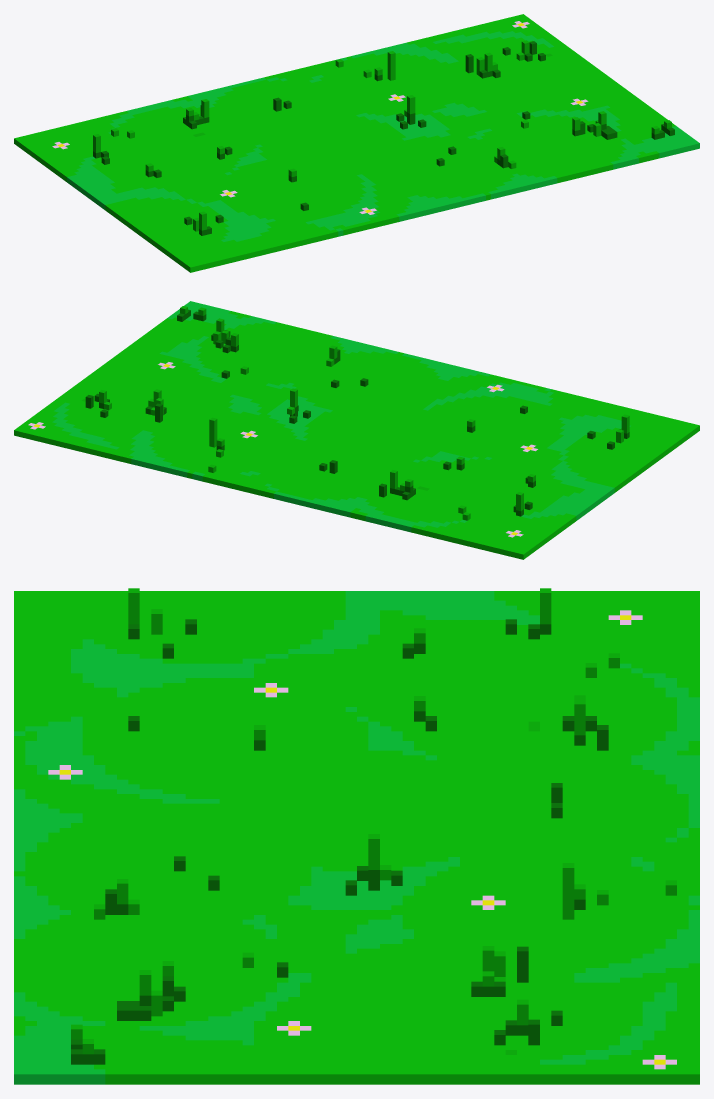
The model's file is Grass.obj.
3 renders of one model, top to bottom at view 1: azimuth 30°, elevation 25°; view 2: azimuth 150°, elevation 25°; view 3: azimuth 270°, elevation 25°, orthographic. The views are drawn at different scales.
Bounding box in the file's own units: 10 × 0.6 × 6.
Materials: 1 (1 with a texture image).
